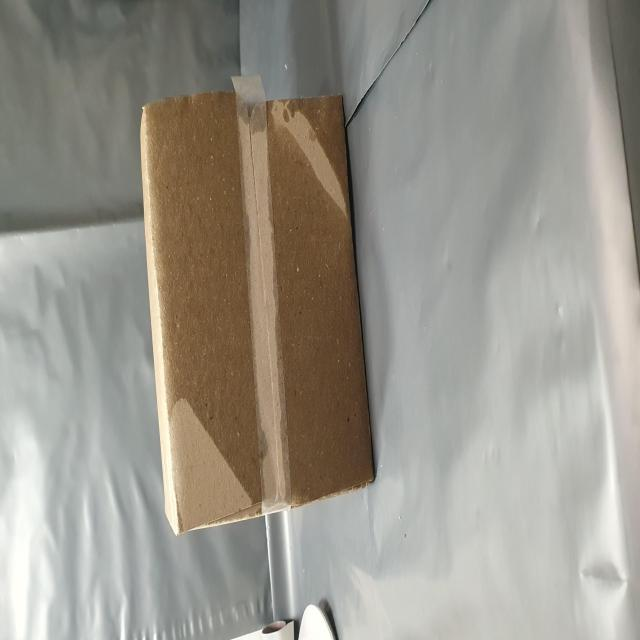wet: (78, 274, 309, 458), (75, 489, 309, 640)
